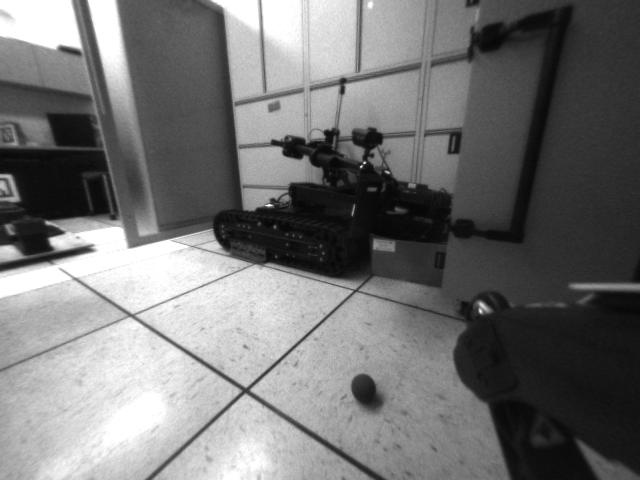dogtoy: (348, 369, 383, 410)
